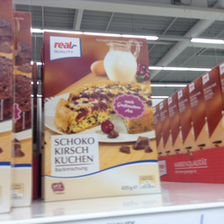cake: (40, 30, 161, 207)
